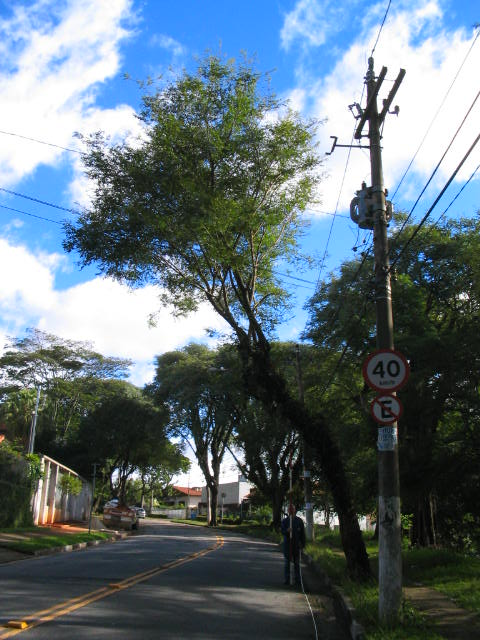crown: (46, 34, 342, 319)
stem: (305, 418, 377, 576)
stick: (282, 446, 299, 588)
tree: (43, 30, 384, 580)
